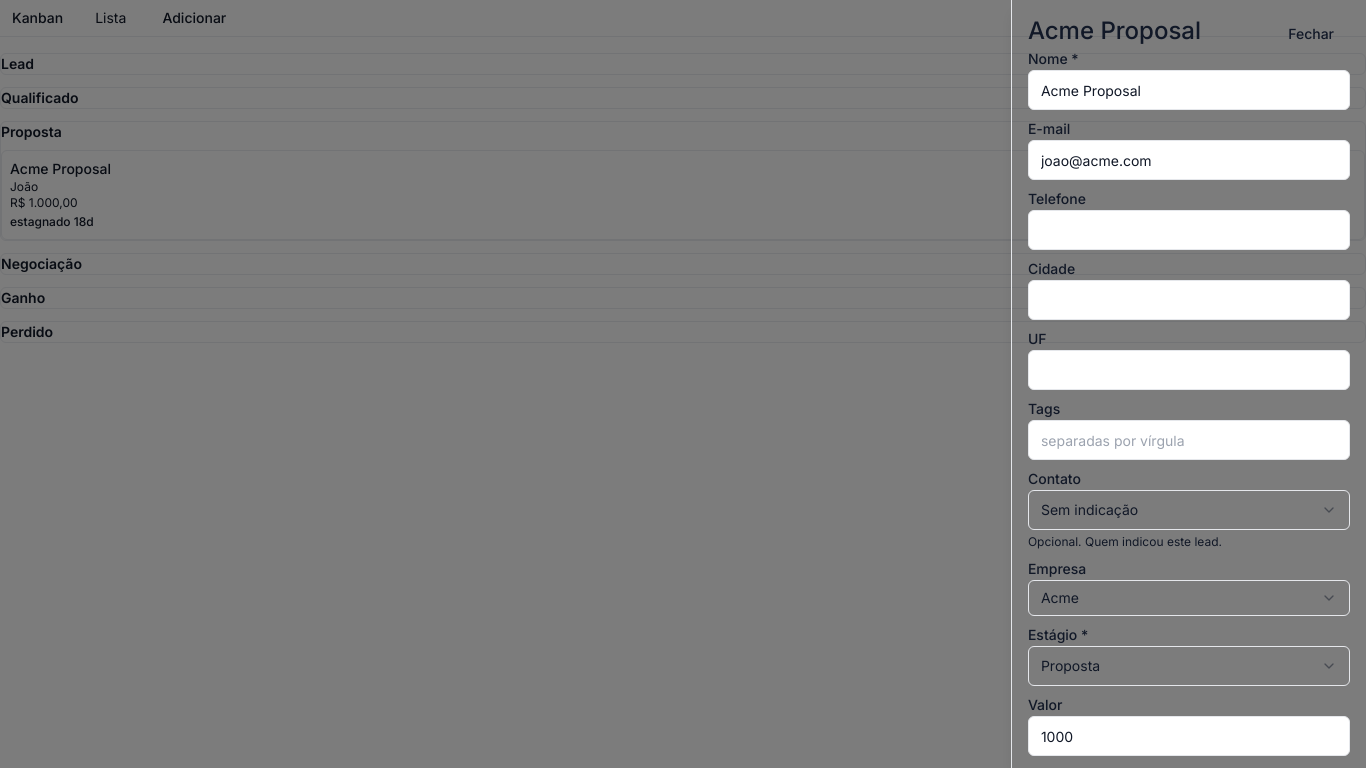
Test: FunilPanel stage labels (saas-empresario-br-task-crm-ui-2 unit-1 / REQ-007) › lista Estágio column and drawer select show the lookup, not the raw enum
Click the dropdown named "mover para": (1071, 666) [1028,646,1350,686]
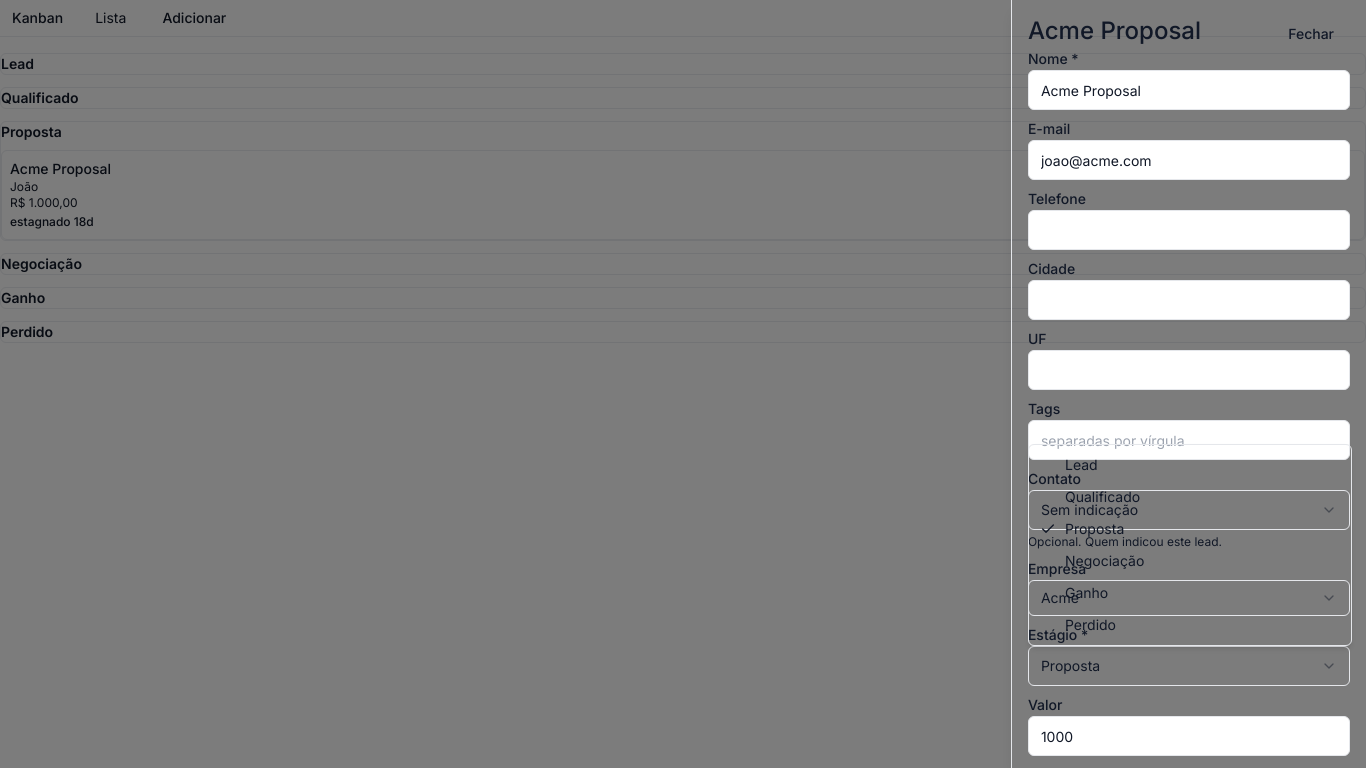
Now the option "Negociação" is shown, box [1065,552,1144,569]
Press Escape
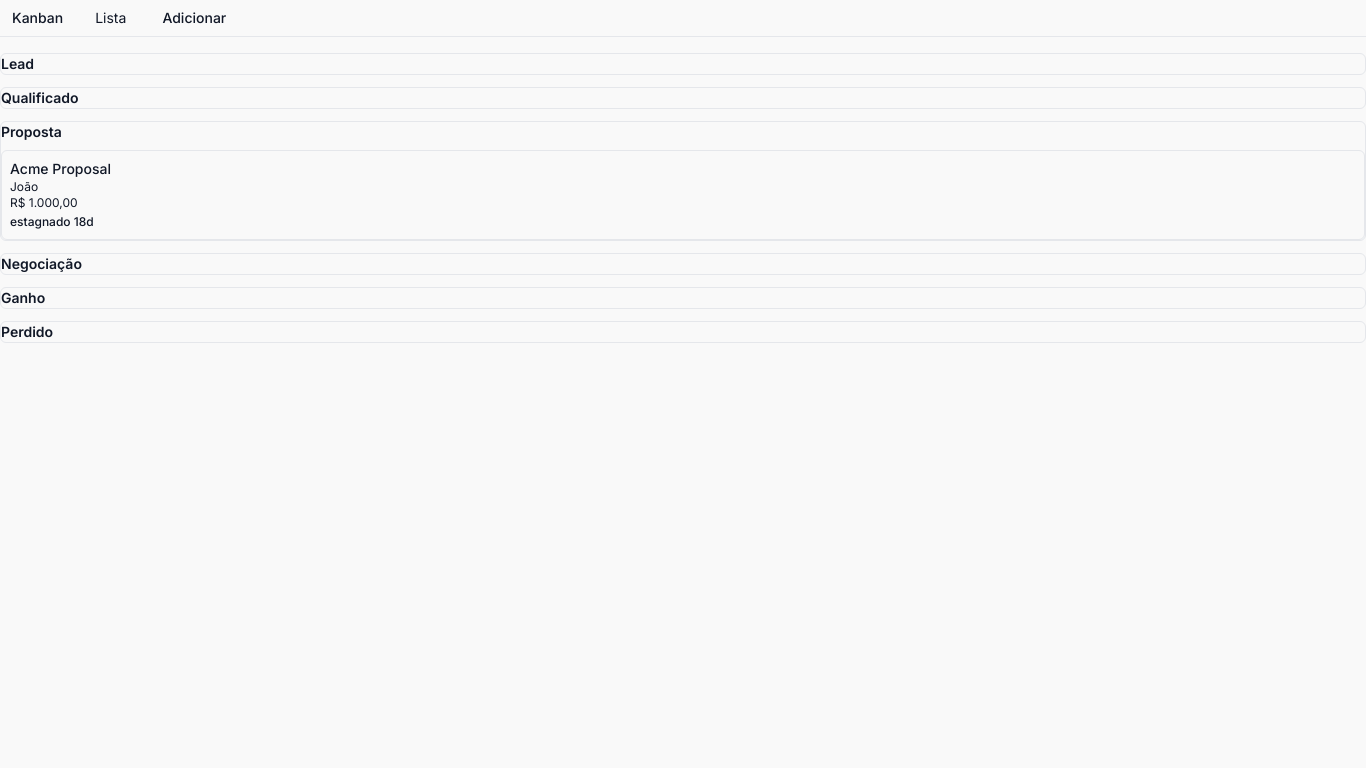
Click the tab with aria-label "visualização lista": (111, 18) [83,0,138,36]
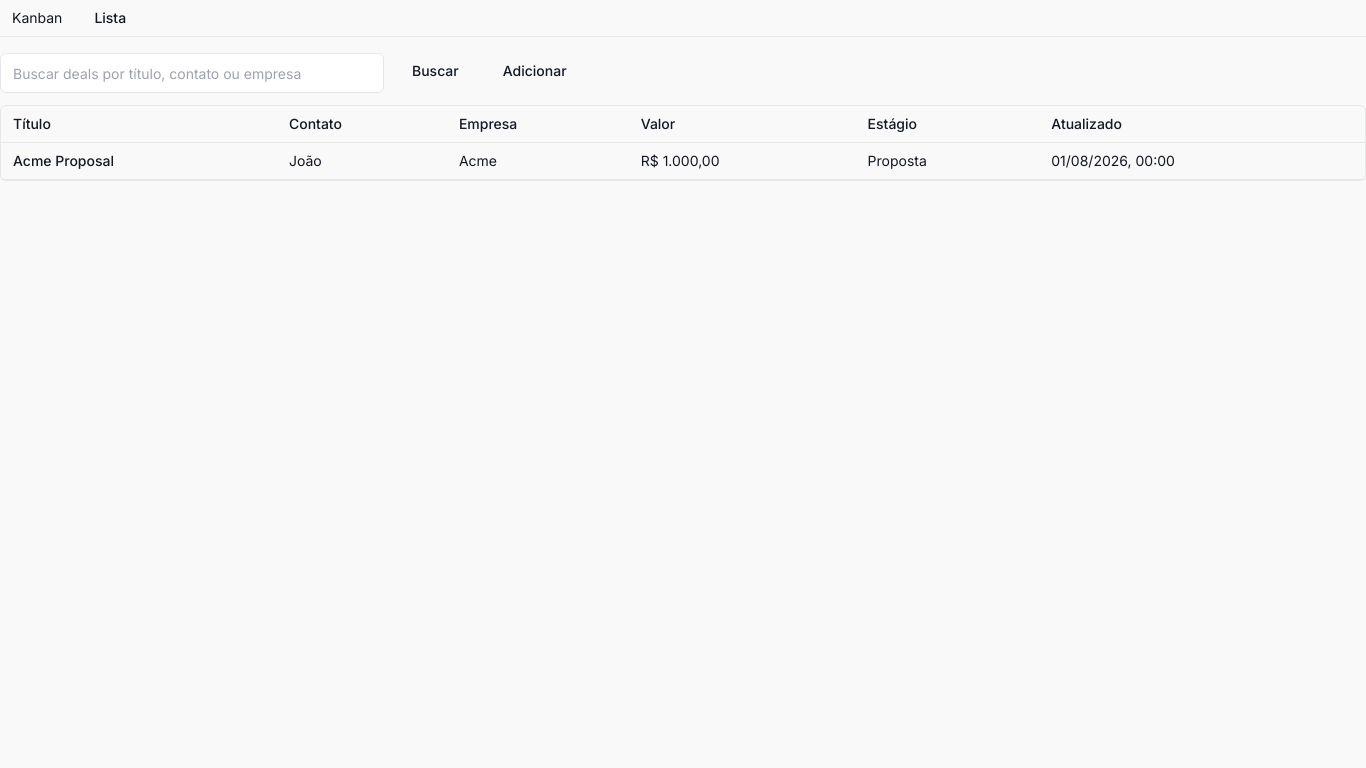
Expected: the row that starts with "Acme Proposal" does not show "proposal", [13,152,114,169]
Now the row that starts with "Acme Proposal" shows "Proposta", box [868,152,927,169]
